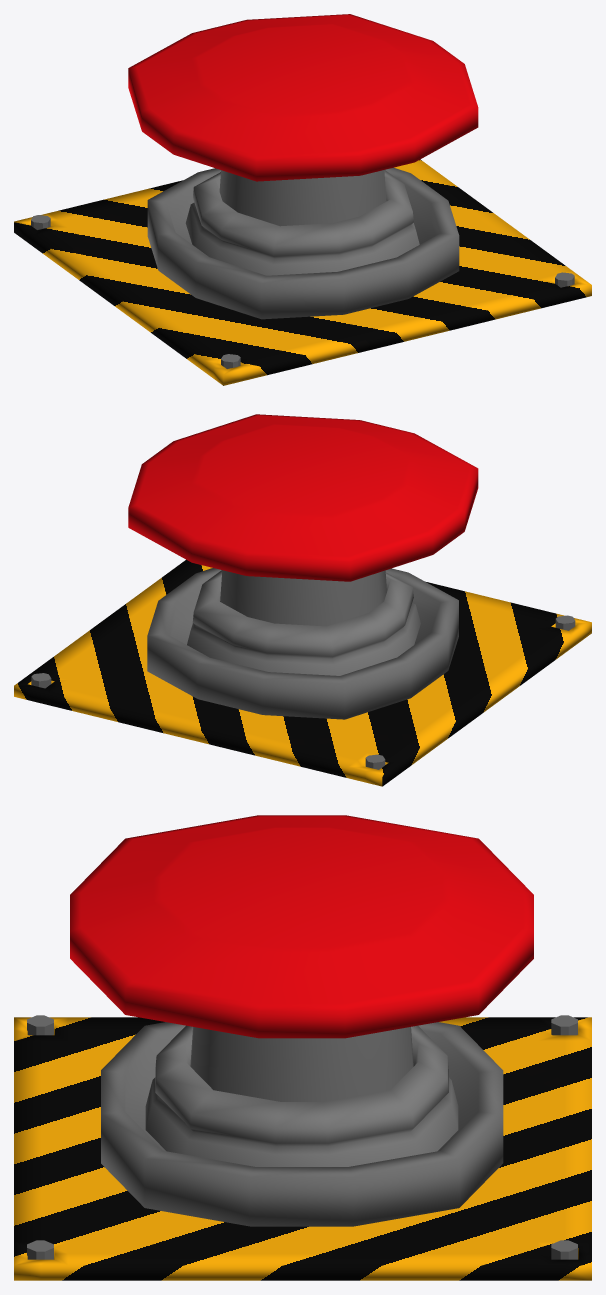
Rendered from redbutton.fbx.
The picture shows the model from 3 angles, top to bottom: view 1: azimuth 30°, elevation 25°; view 2: azimuth 150°, elevation 25°; view 3: azimuth 270°, elevation 25°; orthographic projection. The views are drawn at different scales.
Visible parts, largest first — view 1: Cube.091, Cube.117, Cube.115, Cube.116, Cube.118; view 2: Cube.091, Cube.117, Cube.115, Cube.116, Cube.118; view 3: Cube.091, Cube.117, Cube.115, Cube.116, Cube.118.
Boxes of the visible parts, x1,y1,x2,y2 form: Cube.091: (128,14,478,226); Cube.117: (14,159,591,385); Cube.115: (147,167,459,319); Cube.116: (185,170,419,275); Cube.118: (31,215,574,368); Cube.091: (128,414,478,626); Cube.117: (14,559,591,786); Cube.115: (147,568,458,719); Cube.116: (187,570,420,675); Cube.118: (31,615,575,769); Cube.091: (70,815,533,1101); Cube.117: (14,1017,591,1280); Cube.115: (101,1022,503,1226); Cube.116: (145,1025,458,1166); Cube.118: (27,1015,577,1259).
Size of the model in its own units: 11.58 by 5.88 by 11.4.
Materials: 4 (1 with a texture image).
